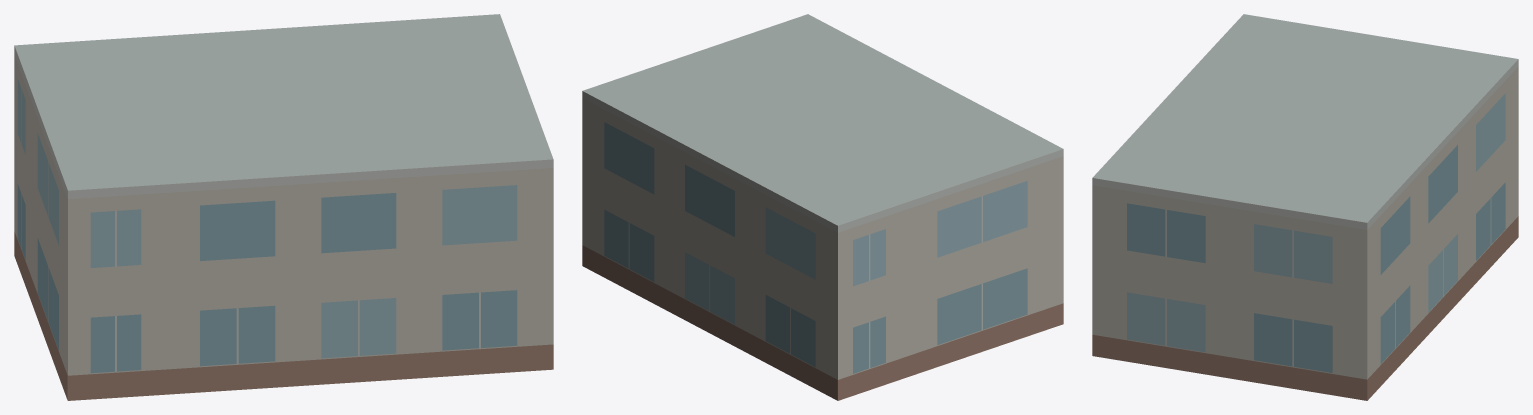
The model's file is survey-upis-32910127.glb.
The picture shows the model from 3 angles, left to right: view 1: azimuth 30°, elevation 25°; view 2: azimuth 150°, elevation 25°; view 3: azimuth 270°, elevation 25°; orthographic projection. The views are drawn at different scales.
Parts seen in each view (by area): view 1: survey-upis-32910127.tmp; view 2: survey-upis-32910127.tmp; view 3: survey-upis-32910127.tmp.
Part boxes in pixels (x1=…): survey-upis-32910127.tmp: x1=14, y1=14, x2=553, y2=400; survey-upis-32910127.tmp: x1=582, y1=14, x2=1063, y2=400; survey-upis-32910127.tmp: x1=1092, y1=14, x2=1518, y2=400.
Bounding box in the file's own units: 15.35 × 6.1 × 13.25.
